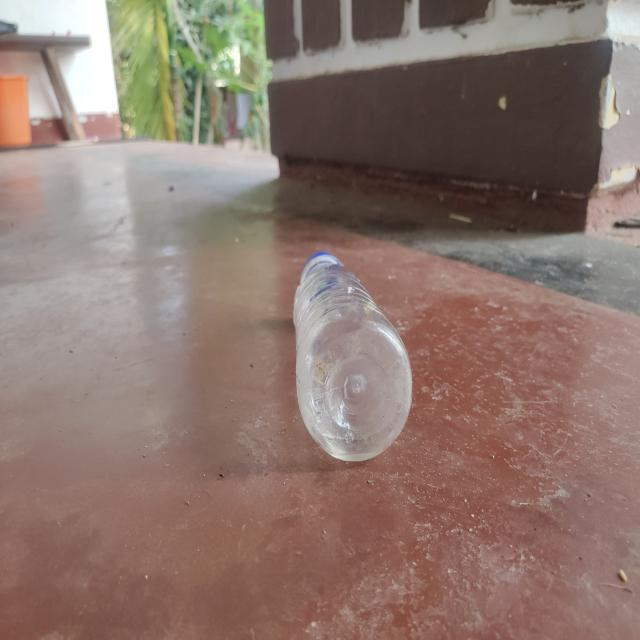plastic: (294, 251, 414, 461)
